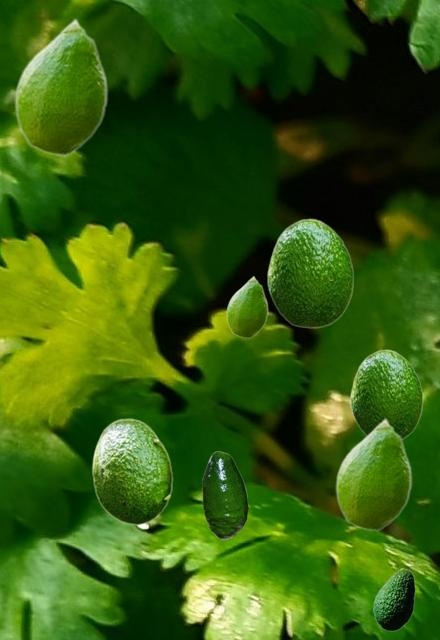avocado: (14, 17, 107, 155), (267, 218, 353, 327), (335, 417, 411, 530), (91, 418, 172, 524), (350, 349, 422, 439), (202, 451, 247, 538), (226, 275, 267, 337), (373, 568, 414, 630)
